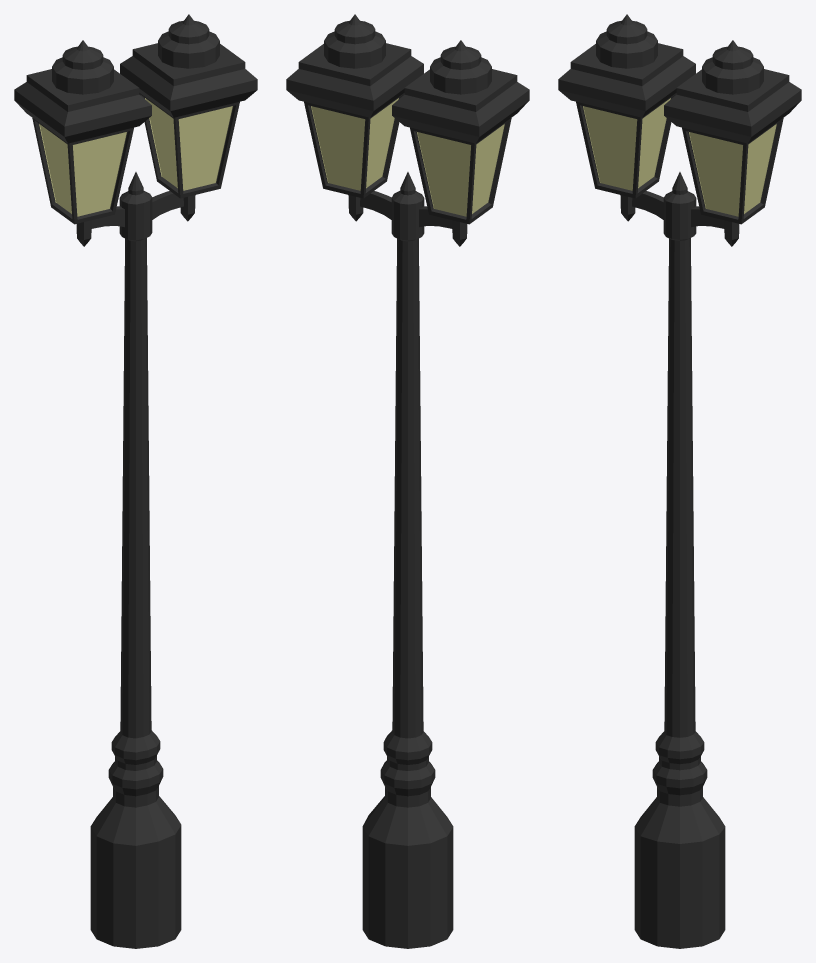
Rendered from street_lamp_double.fbx.
The picture shows the model from 3 angles, left to right: view 1: azimuth 30°, elevation 25°; view 2: azimuth 150°, elevation 25°; view 3: azimuth 330°, elevation 25°; orthographic projection.
Parts seen in each view (by area): view 1: lamp_base, lamp_glass1, lamp_top, lamp_top_round, pCube1, pCylinder1; view 2: lamp_base, lamp_glass1, lamp_top, lamp_top_round, pCube1, pCylinder1; view 3: lamp_base, lamp_glass1, lamp_top, lamp_top_round, pCube1, pCylinder1.
Part boxes in pixels (bbox=[...]): lamp_base: bbox=[90, 172, 181, 948]; lamp_glass1: bbox=[32, 93, 239, 224]; lamp_top: bbox=[14, 43, 257, 143]; lamp_top_round: bbox=[52, 14, 219, 94]; pCube1: bbox=[91, 191, 183, 228]; pCylinder1: bbox=[76, 195, 195, 246]; lamp_base: bbox=[362, 172, 453, 948]; lamp_glass1: bbox=[304, 93, 511, 224]; lamp_top: bbox=[286, 43, 529, 143]; lamp_top_round: bbox=[324, 14, 491, 94]; pCube1: bbox=[360, 191, 452, 228]; pCylinder1: bbox=[348, 195, 467, 246]; lamp_base: bbox=[634, 172, 725, 948]; lamp_glass1: bbox=[576, 93, 783, 224]; lamp_top: bbox=[558, 43, 801, 143]; lamp_top_round: bbox=[596, 14, 763, 94]; pCube1: bbox=[632, 191, 724, 228]; pCylinder1: bbox=[620, 195, 739, 246].
Size of the model in its own units: 71.04 by 317 by 32.11.
